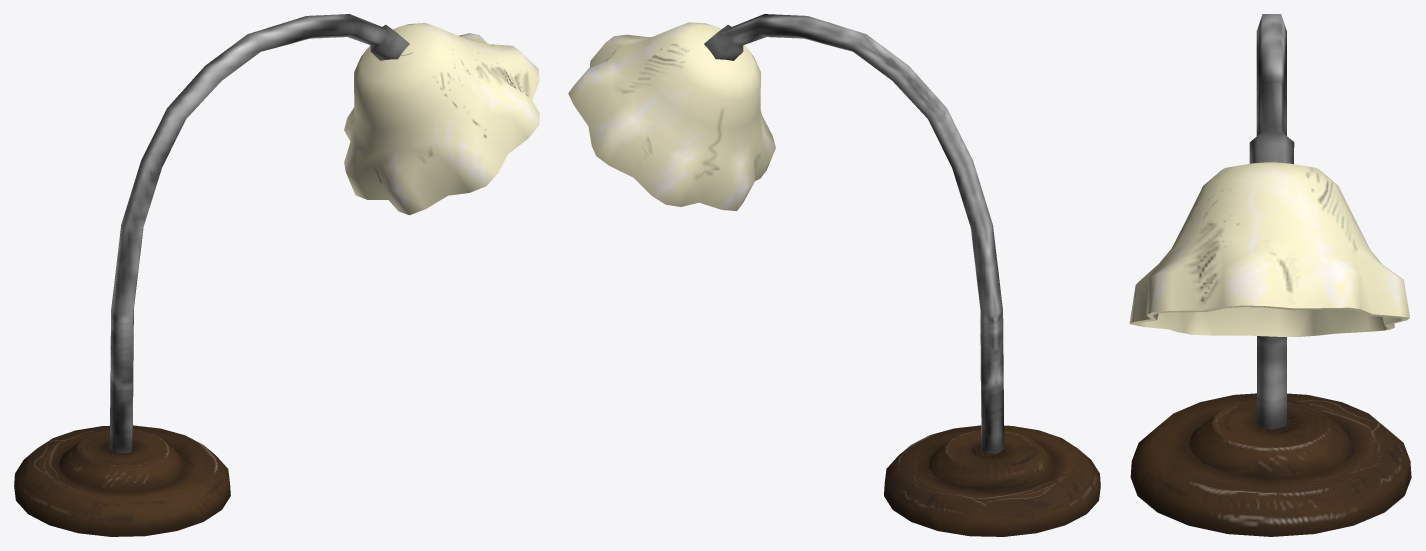
The model's file is lamp_desk.fbx.
The picture shows the model from 3 angles, left to right: view 1: azimuth 30°, elevation 25°; view 2: azimuth 150°, elevation 25°; view 3: azimuth 270°, elevation 25°; orthographic projection. The views are drawn at different scales.
Parts seen in each view (by area): view 1: polySurface1760, polySurface11; view 2: polySurface1760, polySurface11; view 3: polySurface1760, polySurface11.
Part boxes in pixels (box(x1,y1,x2,y2)): polySurface1760: box(14, 14, 409, 536); polySurface11: box(344, 23, 539, 215); polySurface1760: box(704, 14, 1100, 536); polySurface11: box(568, 22, 775, 210); polySurface1760: box(1130, 14, 1411, 536); polySurface11: box(1129, 162, 1409, 336).
Size of the model in its own units: 52.48 by 42.81 by 19.91.
